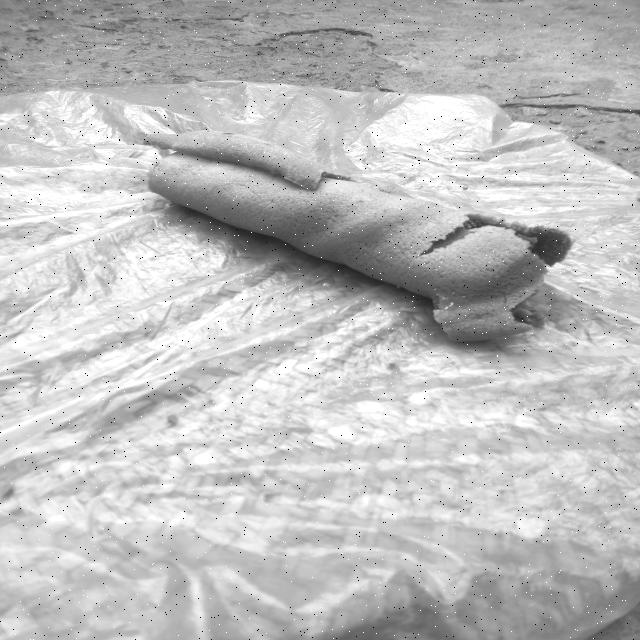injera_mold: (442, 301, 457, 312), (303, 177, 317, 186), (354, 198, 366, 205), (338, 175, 351, 181), (436, 294, 446, 300), (320, 170, 326, 177), (221, 132, 236, 134), (264, 142, 270, 146), (432, 288, 439, 291), (206, 130, 212, 133), (202, 142, 205, 145), (451, 292, 455, 294), (462, 296, 466, 298)
